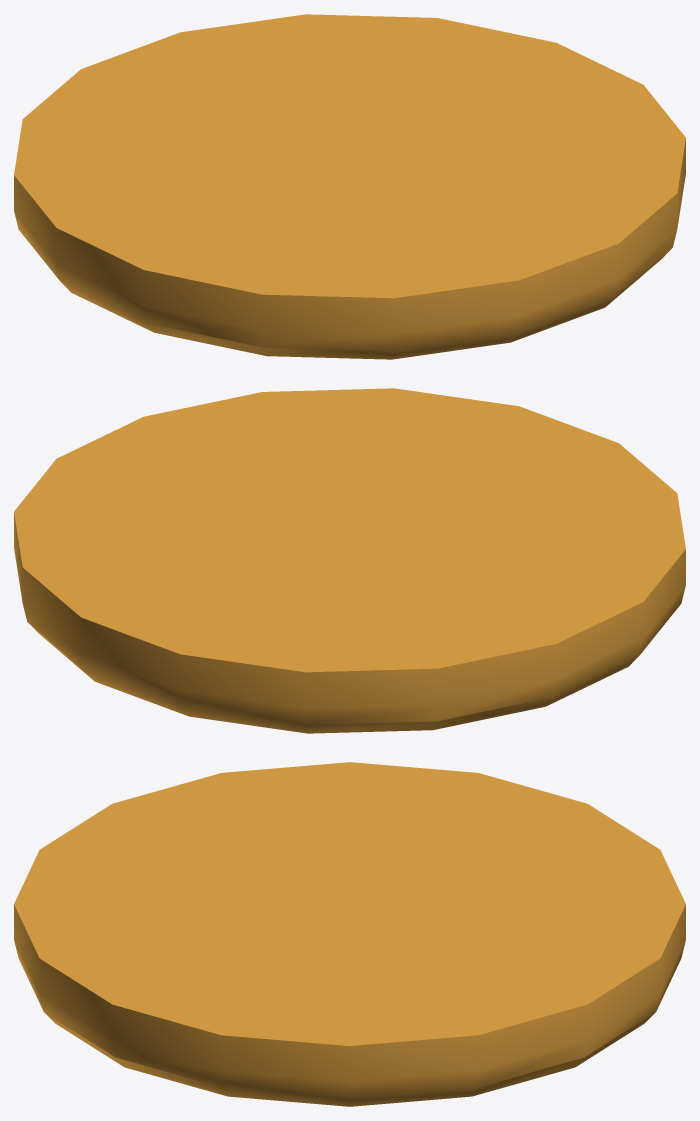
File: BreadBottom.fbx
The picture shows the model from 3 angles, top to bottom: view 1: azimuth 30°, elevation 25°; view 2: azimuth 150°, elevation 25°; view 3: azimuth 270°, elevation 25°; orthographic projection.
Visible parts, largest first — view 1: BreadBottom; view 2: BreadBottom; view 3: BreadBottom.
Part boxes in pixels (x1,y1,x2,y2): BreadBottom: [14, 14, 685, 359]; BreadBottom: [14, 388, 685, 733]; BreadBottom: [14, 762, 685, 1106].
Size of the model in its own units: 200 by 23.97 by 200.
